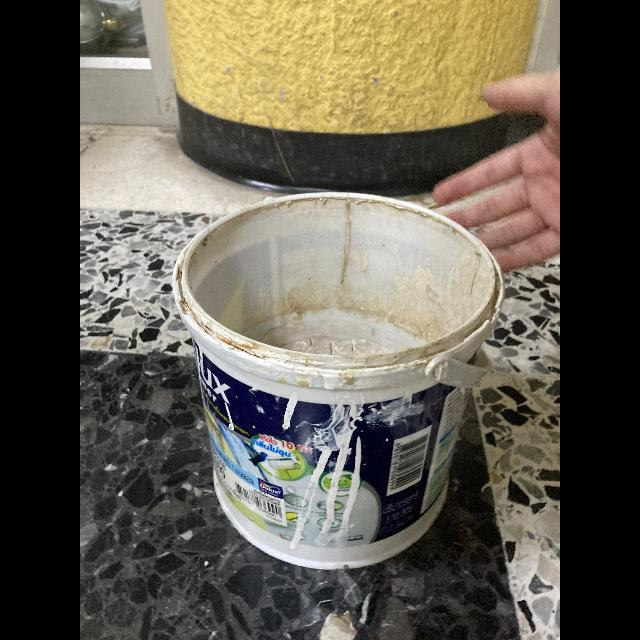paint_bucket: (170, 192, 506, 568)
